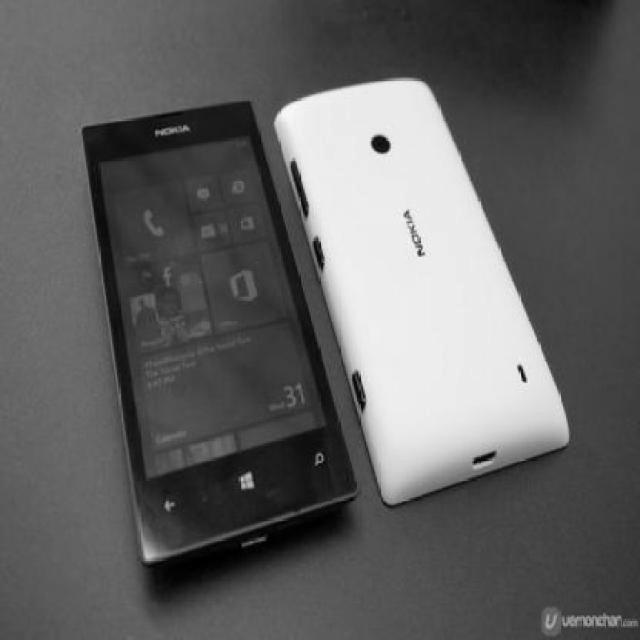fake: (77, 99, 360, 567), (278, 92, 562, 486)
